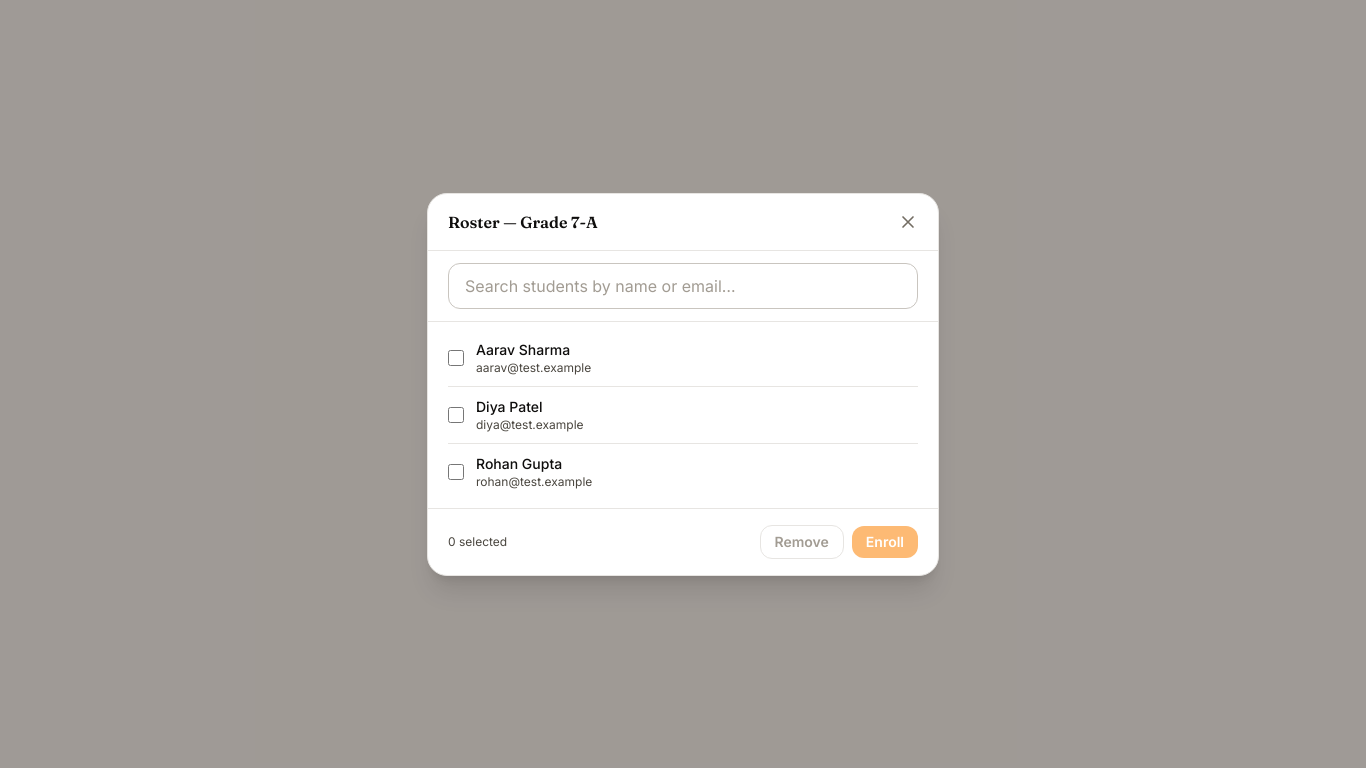
Test: EnrollStudentsModal › reports skipped invalid ids in the result message
This screenshot has width=1366, height=768.
Click the checkbox labelled "Aarav Sharma aarav@test.example" at (456, 358), box left=448, top=350, right=464, bottom=366
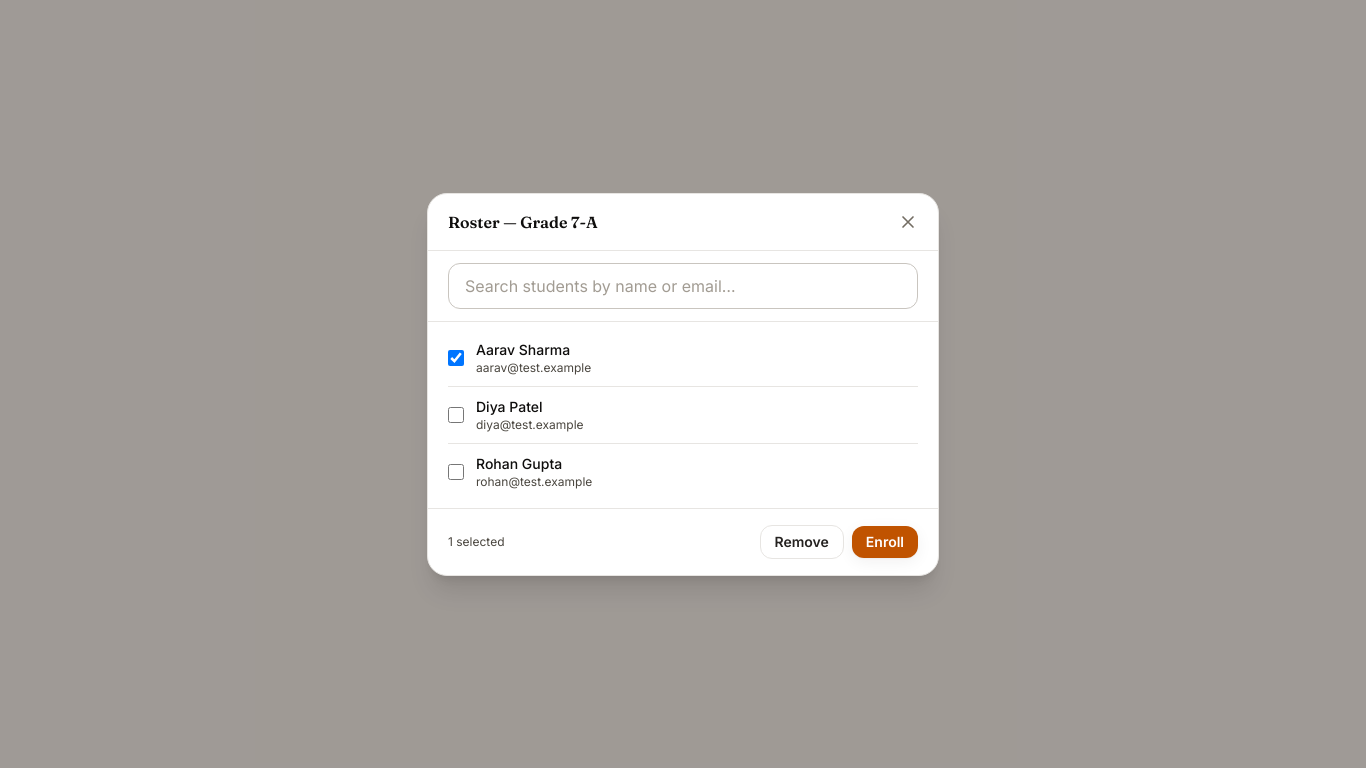
Click the button "Enroll" at (885, 542), box left=852, top=526, right=918, bottom=558
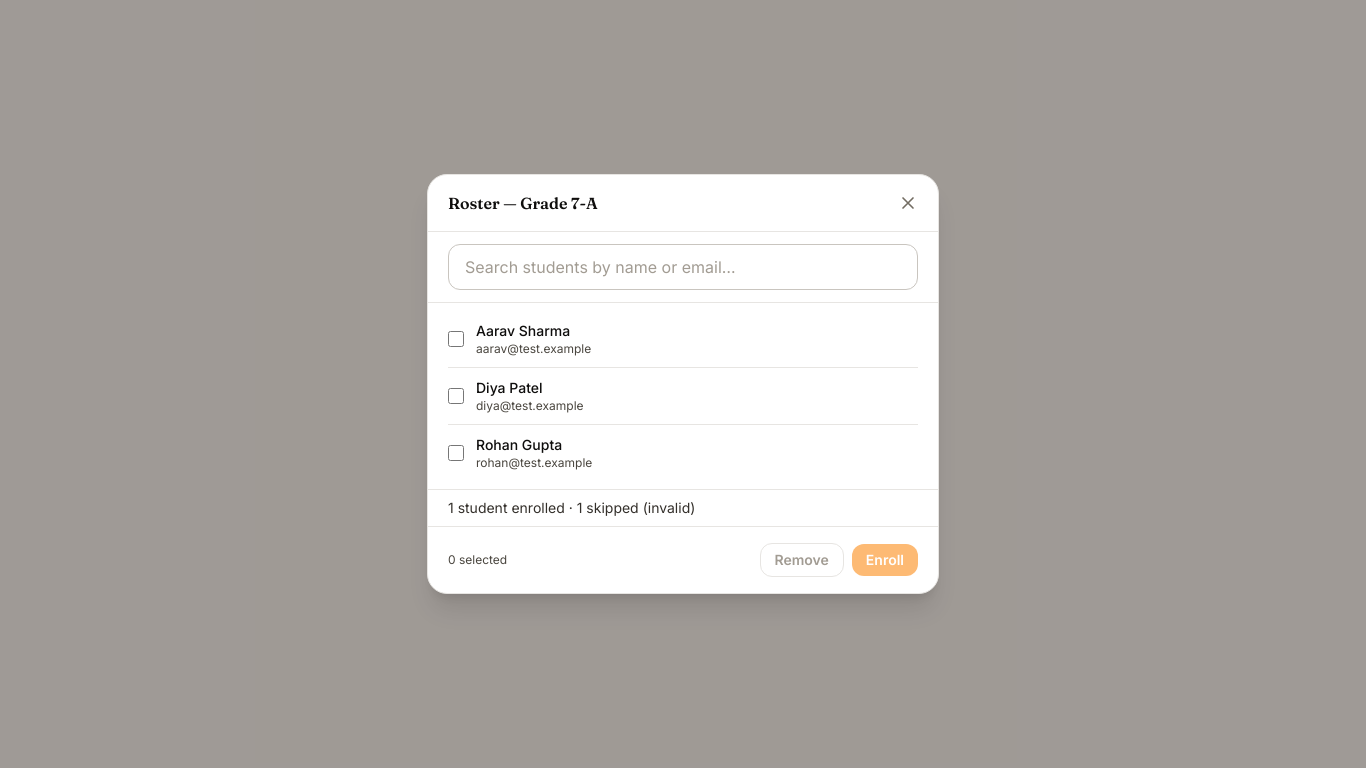
Expected: the text "1 student enrolled · 1 skipped (invalid)" is shown, left=448, top=499, right=695, bottom=516
